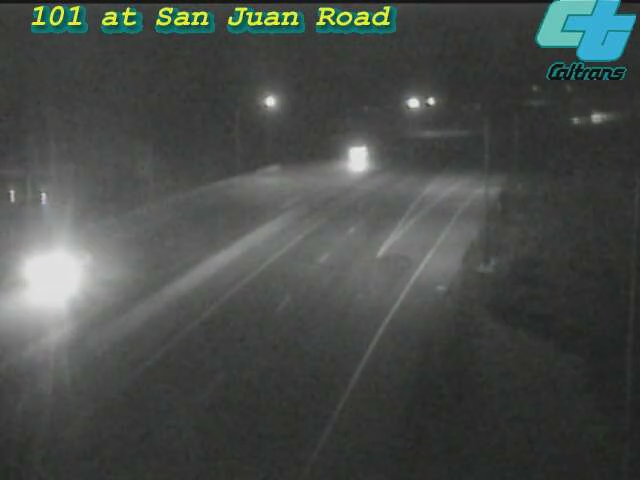vehicle: (6, 238, 86, 318), (311, 120, 391, 200), (576, 91, 626, 141)
